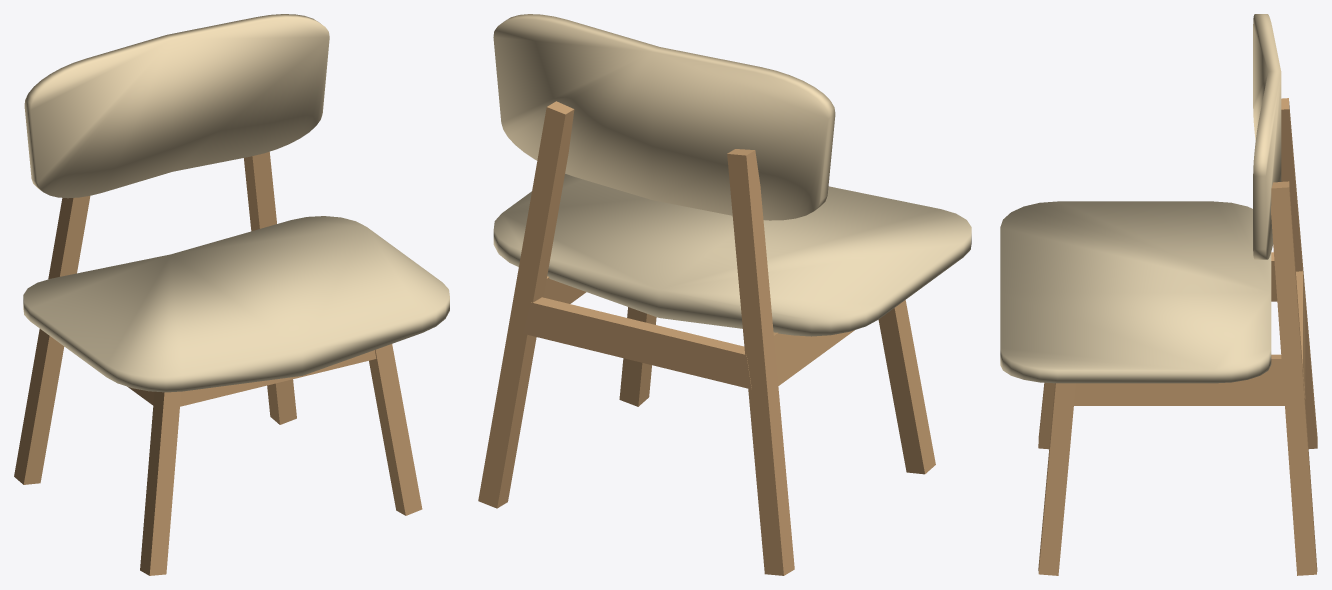
Rendered from cafe-chair3.fbx.
The picture shows the model from 3 angles, left to right: view 1: azimuth 30°, elevation 25°; view 2: azimuth 150°, elevation 25°; view 3: azimuth 270°, elevation 25°; orthographic projection. The views are drawn at different scales.
Parts seen in each view (by area): view 1: Cube; view 2: Cube; view 3: Cube.
Part boxes in pixels (x1,y1,x2,y2): Cube: (14,14,449,575); Cube: (478,14,971,575); Cube: (1000,14,1317,575).
Size of the model in its own units: 200 by 242 by 159.
